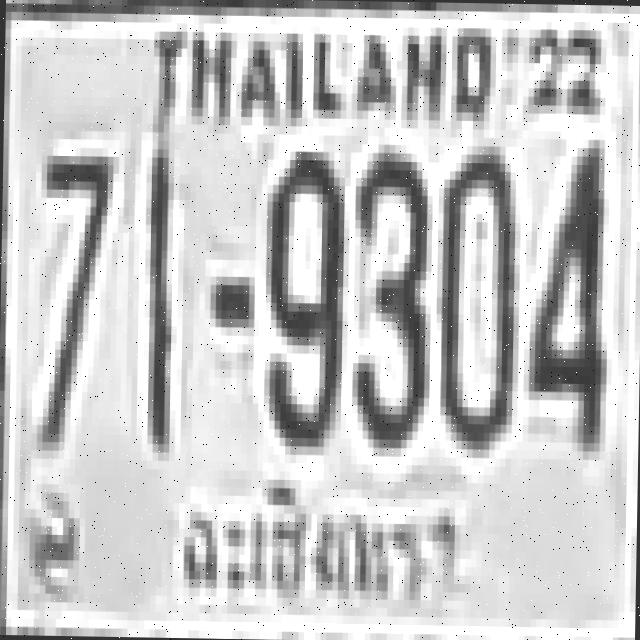0: (434, 145, 516, 441)
1: (141, 148, 174, 444)
3: (348, 143, 425, 440)
4: (522, 134, 604, 438)
7: (34, 146, 110, 442)
9: (262, 146, 340, 442)
Chachoengsao: (168, 472, 466, 618)
